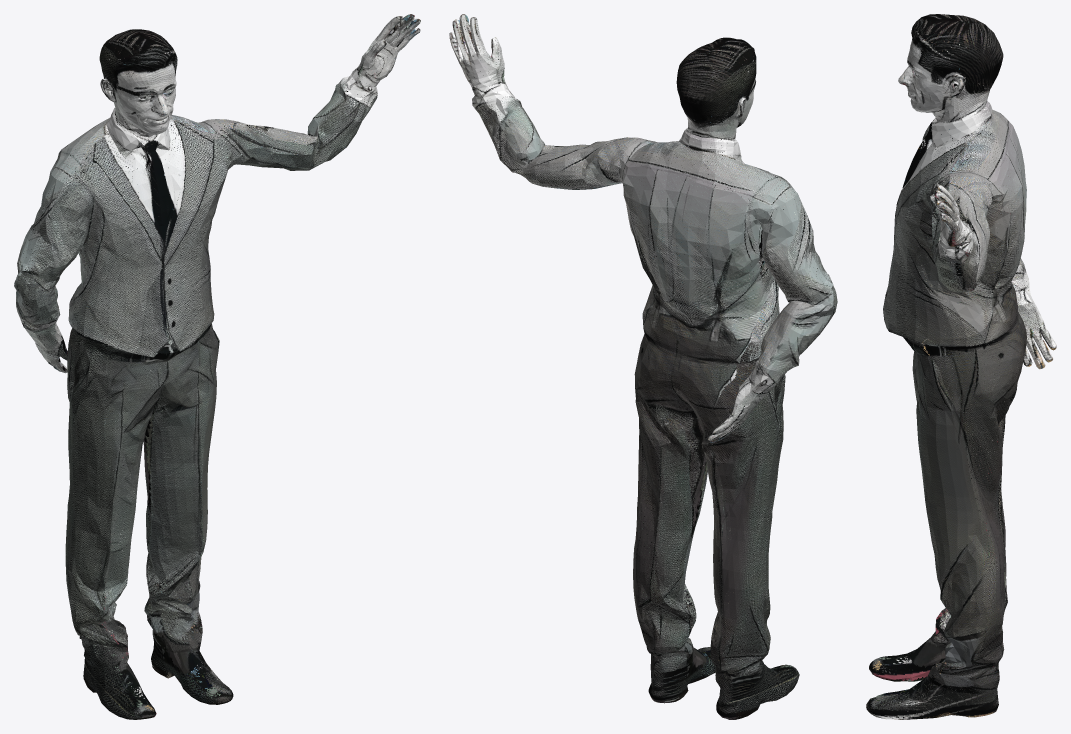
The model's file is textured_simple.glb.
The picture shows the model from 3 angles, left to right: view 1: azimuth 30°, elevation 25°; view 2: azimuth 150°, elevation 25°; view 3: azimuth 270°, elevation 25°; orthographic projection. The views are drawn at different scales.
Visible parts, largest first — view 1: Node; view 2: Node; view 3: Node.
Boxes of the visible parts, x1=… form: Node: x1=14, y1=14, x2=420, y2=719; Node: x1=449, y1=14, x2=837, y2=719; Node: x1=866, y1=14, x2=1056, y2=719.
Size of the model in its own units: 1.27 by 2 by 0.5138.
Materials: 1 (1 with a texture image).
